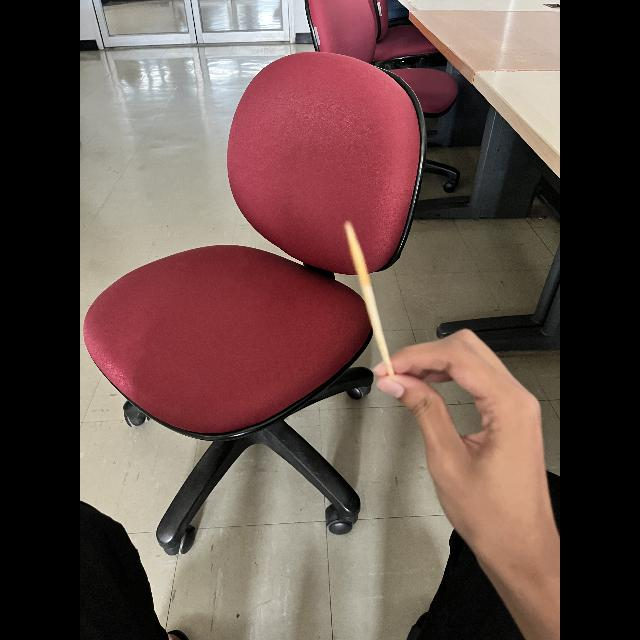stick: (341, 218, 393, 374)
